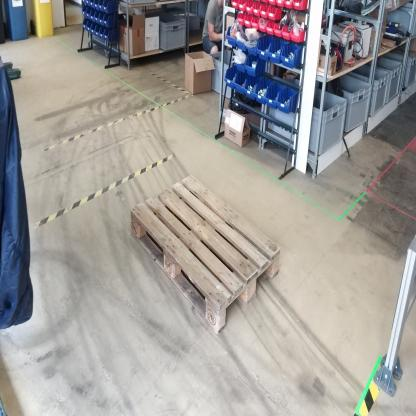BoxFace: (126, 170, 284, 345)
